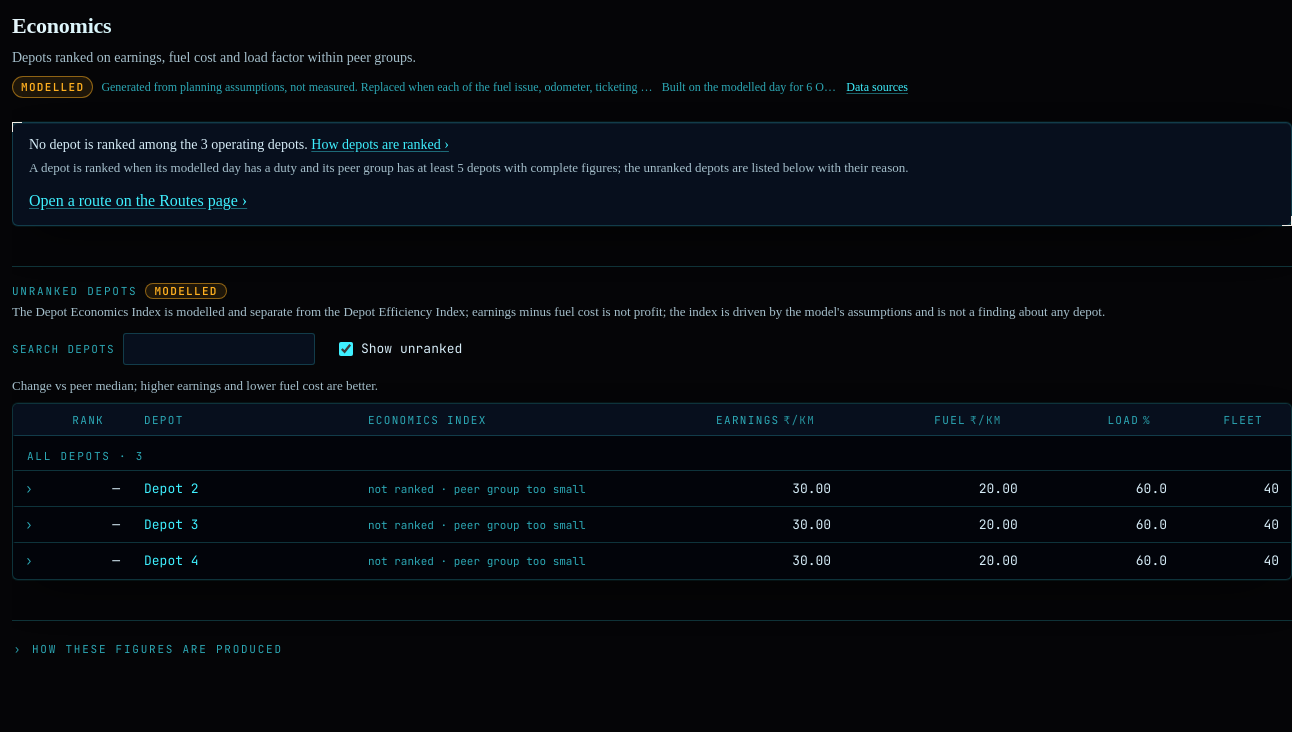
Test case: EconomicsPage truthfulness › says nothing is ranked yet when the filter is turned off, in a state panel, never an empty table
Click the checkbox labelled "Show unranked" at (346, 349), box x1=339 y1=342 x2=353 y2=356
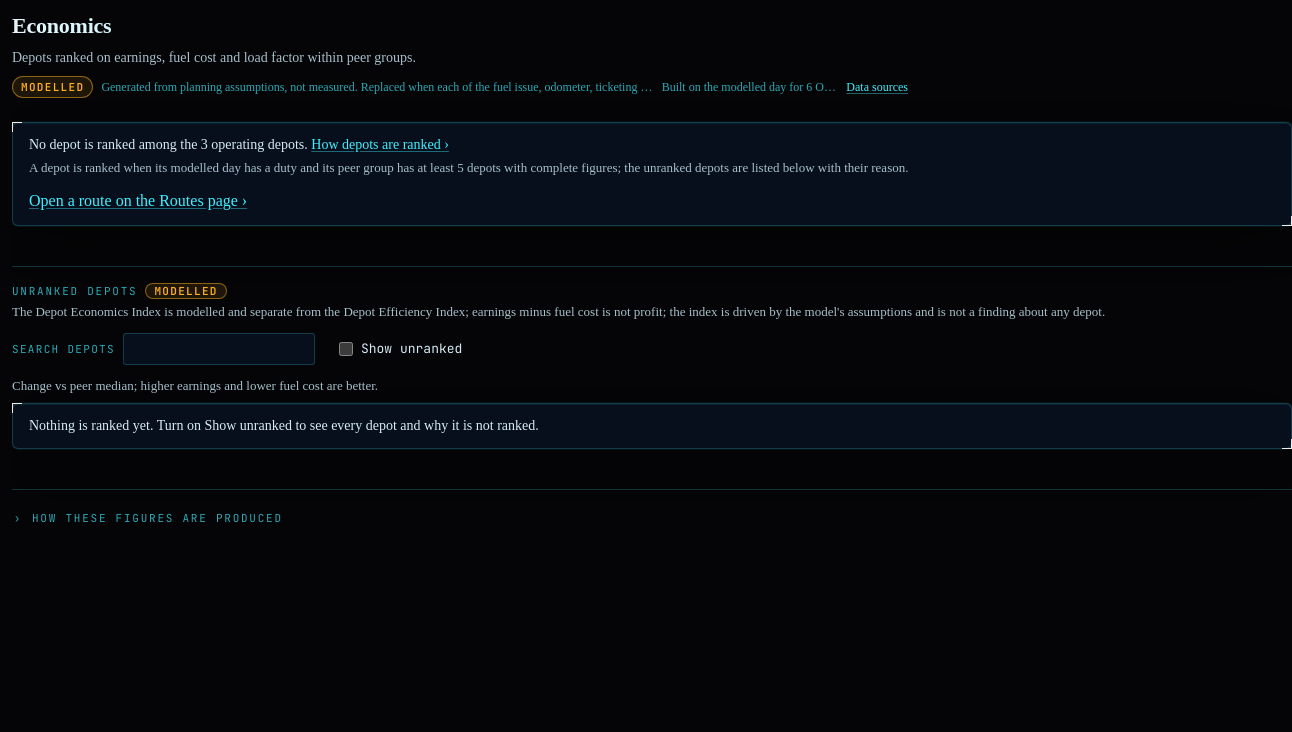
Now the text "Nothing is ranked yet." is shown, box x1=29 y1=418 x2=539 y2=433
